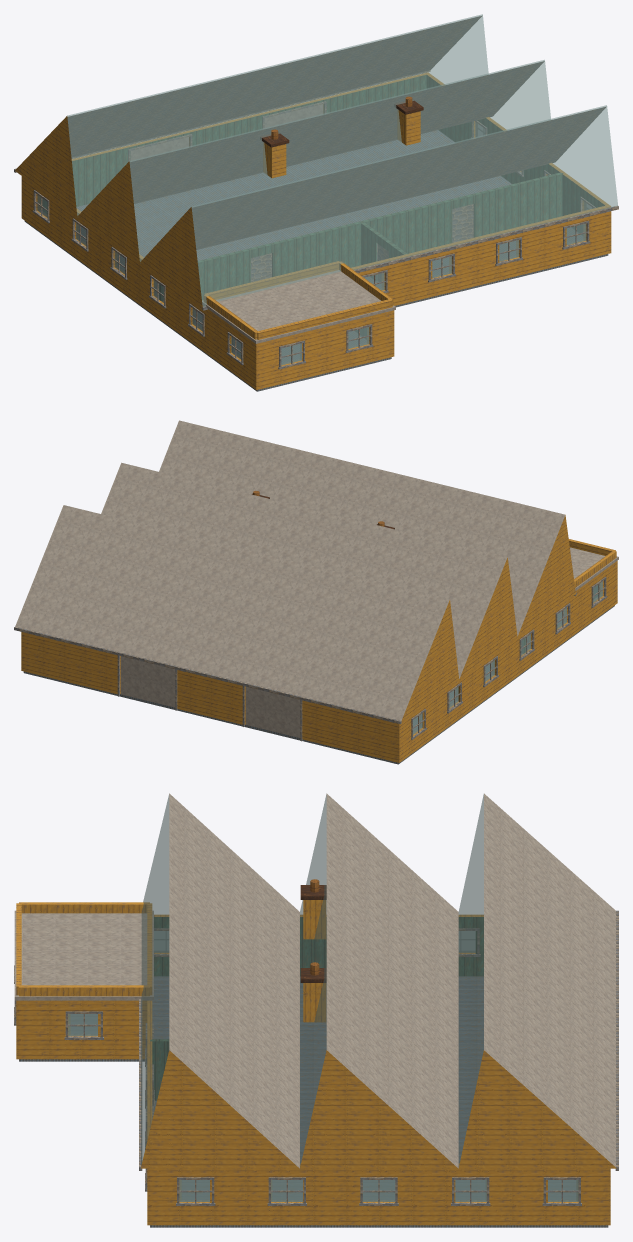
File: northlight-works.gltf
3 renders of one model, top to bottom at view 1: azimuth 30°, elevation 25°; view 2: azimuth 150°, elevation 25°; view 3: azimuth 270°, elevation 25°, orthographic. The views are drawn at different scales.
Parts seen in each view (by area): view 1: roof-L0-glass, roof-L0-dark-wood, exterior-L0-brick, interior-L0-interior, roof-L0-brick, floor-L0-concrete, exterior-L0-interior, roof-L0-blue-metal, trim-L0-dark-wood, glazing-L0-glass, details-L0-brick, door-leaf-L0-blue-metal (×2) (+2 smaller); view 2: roof-L0-blue-metal, exterior-L0-brick, roof-L0-brick, door-leaf-L0-blue-metal (×2), trim-L0-dark-wood, roof-L0-dark-wood, floor-L0-concrete, glazing-L0-glass; view 3: roof-L0-blue-metal, roof-L0-brick, exterior-L0-brick, roof-L0-glass, floor-L0-concrete, glazing-L0-glass, trim-L0-dark-wood, exterior-L0-interior, details-L0-brick, roof-L0-dark-wood, details-L0-stone, interior-L0-interior.
Part boxes in pixels (x1,y1,x2,y2): roof-L0-glass: (67, 14, 617, 306); roof-L0-dark-wood: (14, 16, 618, 310); exterior-L0-brick: (21, 72, 611, 389); interior-L0-interior: (159, 173, 562, 300); roof-L0-brick: (15, 116, 393, 339); floor-L0-concrete: (24, 130, 608, 391); exterior-L0-interior: (43, 75, 604, 338); roof-L0-blue-metal: (202, 270, 395, 343); trim-L0-dark-wood: (32, 101, 595, 369); glazing-L0-glass: (37, 122, 592, 365); details-L0-brick: (263, 109, 420, 178); door-leaf-L0-blue-metal (×2): (131, 104, 322, 161); roof-L0-blue-metal: (15, 420, 618, 720); exterior-L0-brick: (21, 561, 617, 762); roof-L0-brick: (401, 515, 616, 721); door-leaf-L0-blue-metal (×2): (120, 656, 300, 737); trim-L0-dark-wood: (117, 577, 607, 741); roof-L0-dark-wood: (14, 592, 576, 724); floor-L0-concrete: (23, 605, 614, 764); glazing-L0-glass: (413, 581, 602, 734); roof-L0-blue-metal: (14, 793, 615, 1168); roof-L0-brick: (16, 902, 616, 1168); exterior-L0-brick: (16, 915, 610, 1225); roof-L0-glass: (141, 794, 483, 1166); floor-L0-concrete: (19, 976, 608, 1227); glazing-L0-glass: (68, 931, 578, 1201); trim-L0-dark-wood: (14, 928, 581, 1205); exterior-L0-interior: (154, 917, 483, 975); details-L0-brick: (303, 900, 325, 1022); roof-L0-dark-wood: (139, 910, 618, 1170); details-L0-stone: (300, 885, 326, 982); interior-L0-interior: (150, 1039, 168, 1100).
Bounding box in the file's own units: 18.56 × 6.12 × 18.48.
Materials: 9 (8 with a texture image).
